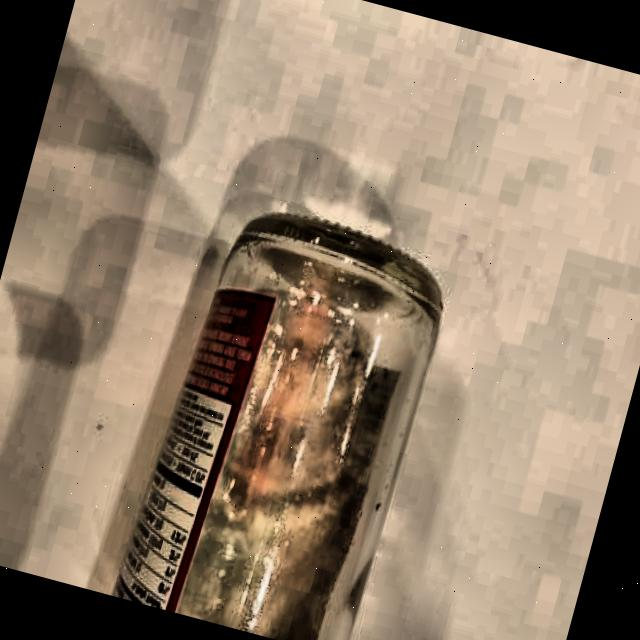glass: (101, 183, 468, 640)
